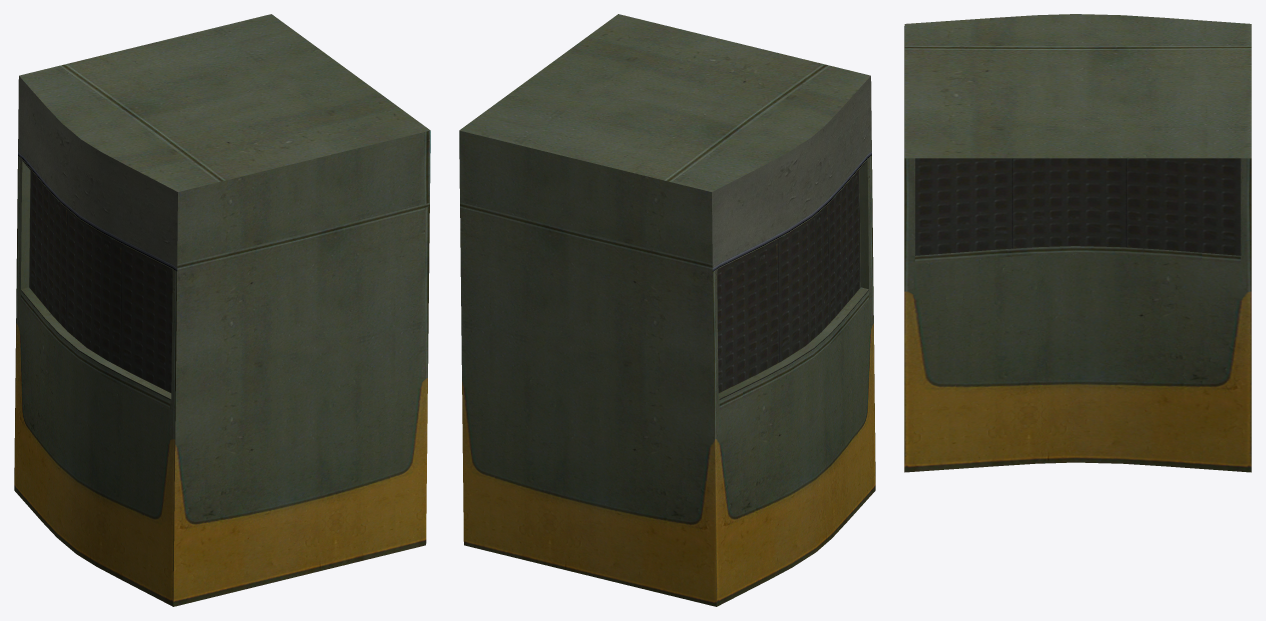
The model's file is Comp11.fbx.
3 renders of one model, left to right at view 1: azimuth 30°, elevation 25°; view 2: azimuth 150°, elevation 25°; view 3: azimuth 270°, elevation 25°, orthographic. The views are drawn at different scales.
Visible parts, largest first — view 1: Comp11; view 2: Comp11; view 3: Comp11.
Part boxes in pixels (bbox=[...]): Comp11: bbox=[14, 14, 430, 606]; Comp11: bbox=[459, 14, 875, 606]; Comp11: bbox=[904, 14, 1251, 472].
Bounding box in the file's own units: 84.12 × 120 × 84.03.
